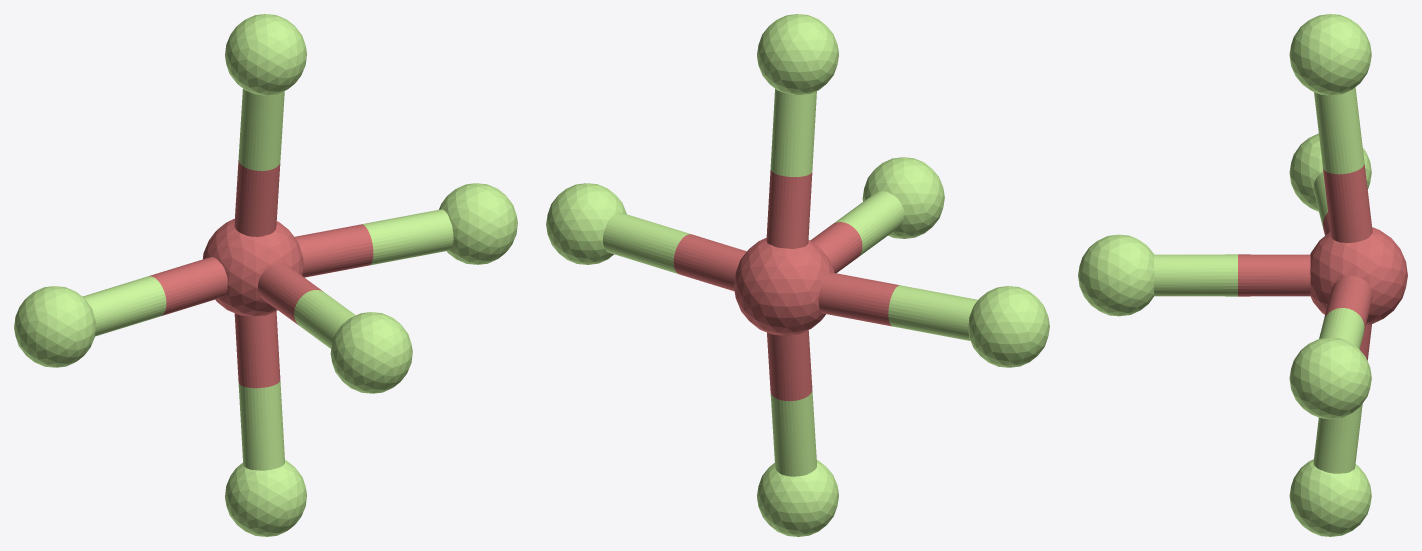
The model's file is BrF5.glb.
3 views of the same model, side by side, from view 1: azimuth 30°, elevation 25°; view 2: azimuth 150°, elevation 25°; view 3: azimuth 270°, elevation 25° (orthographic).
Visible parts, largest first — view 1: Shape_IndexedFaceSet.004, Shape_IndexedFaceSet.001, Shape_IndexedFaceSet.005, Shape_IndexedFaceSet, Shape_IndexedFaceSet.002, Shape_IndexedFaceSet.003, Shape_IndexedFaceSet.017, Shape_IndexedFaceSet.014, Shape_IndexedFaceSet.008, Shape_IndexedFaceSet.020, Shape_IndexedFaceSet.016, Shape_IndexedFaceSet.013 (+4 smaller); view 2: Shape_IndexedFaceSet, Shape_IndexedFaceSet.001, Shape_IndexedFaceSet.005, Shape_IndexedFaceSet.002, Shape_IndexedFaceSet.003, Shape_IndexedFaceSet.004, Shape_IndexedFaceSet.008, Shape_IndexedFaceSet.020, Shape_IndexedFaceSet.017, Shape_IndexedFaceSet.014, Shape_IndexedFaceSet.006, Shape_IndexedFaceSet.019 (+4 smaller); view 3: Shape_IndexedFaceSet, Shape_IndexedFaceSet.003, Shape_IndexedFaceSet.005, Shape_IndexedFaceSet.004, Shape_IndexedFaceSet.002, Shape_IndexedFaceSet.011, Shape_IndexedFaceSet.008, Shape_IndexedFaceSet.010, Shape_IndexedFaceSet.006, Shape_IndexedFaceSet.017, Shape_IndexedFaceSet.001, Shape_IndexedFaceSet.013 (+2 smaller).
Part boxes in pixels (left/top/right/bottom): Shape_IndexedFaceSet.004: left=330, top=312, right=412, bottom=393; Shape_IndexedFaceSet.001: left=14, top=286, right=96, bottom=367; Shape_IndexedFaceSet.005: left=225, top=14, right=306, bottom=95; Shape_IndexedFaceSet: left=203, top=218, right=303, bottom=316; Shape_IndexedFaceSet.002: left=225, top=460, right=306, bottom=536; Shape_IndexedFaceSet.003: left=439, top=183, right=517, bottom=264; Shape_IndexedFaceSet.017: left=238, top=381, right=284, bottom=470; Shape_IndexedFaceSet.014: left=362, top=209, right=453, bottom=265; Shape_IndexedFaceSet.008: left=238, top=89, right=284, bottom=170; Shape_IndexedFaceSet.020: left=82, top=276, right=166, bottom=336; Shape_IndexedFaceSet.016: left=234, top=311, right=280, bottom=388; Shape_IndexedFaceSet.013: left=294, top=224, right=373, bottom=277; Shape_IndexedFaceSet: left=733, top=238, right=834, bottom=335; Shape_IndexedFaceSet.001: left=968, top=286, right=1049, bottom=367; Shape_IndexedFaceSet.005: left=757, top=14, right=838, bottom=94; Shape_IndexedFaceSet.002: left=757, top=460, right=838, bottom=536; Shape_IndexedFaceSet.003: left=546, top=183, right=626, bottom=264; Shape_IndexedFaceSet.004: left=862, top=157, right=944, bottom=238; Shape_IndexedFaceSet.008: left=770, top=89, right=816, bottom=176; Shape_IndexedFaceSet.020: left=888, top=285, right=977, bottom=340; Shape_IndexedFaceSet.017: left=770, top=391, right=816, bottom=476; Shape_IndexedFaceSet.014: left=603, top=212, right=690, bottom=274; Shape_IndexedFaceSet.006: left=766, top=170, right=812, bottom=248; Shape_IndexedFaceSet.019: left=818, top=272, right=899, bottom=326; Shape_IndexedFaceSet: left=1310, top=227, right=1407, bottom=325; Shape_IndexedFaceSet.003: left=1289, top=337, right=1371, bottom=419; Shape_IndexedFaceSet.005: left=1289, top=14, right=1371, bottom=95; Shape_IndexedFaceSet.004: left=1078, top=234, right=1154, bottom=316; Shape_IndexedFaceSet.002: left=1289, top=459, right=1371, bottom=536; Shape_IndexedFaceSet.011: left=1153, top=254, right=1237, bottom=296; Shape_IndexedFaceSet.008: left=1314, top=87, right=1364, bottom=174; Shape_IndexedFaceSet.010: left=1238, top=254, right=1310, bottom=296; Shape_IndexedFaceSet.006: left=1323, top=164, right=1372, bottom=242; Shape_IndexedFaceSet.017: left=1313, top=404, right=1362, bottom=473; Shape_IndexedFaceSet.001: left=1289, top=133, right=1371, bottom=211; Shape_IndexedFaceSet.013: left=1324, top=275, right=1372, bottom=329.
Bounding box in the file's own units: 2.84 × 2.84 × 1.65.
